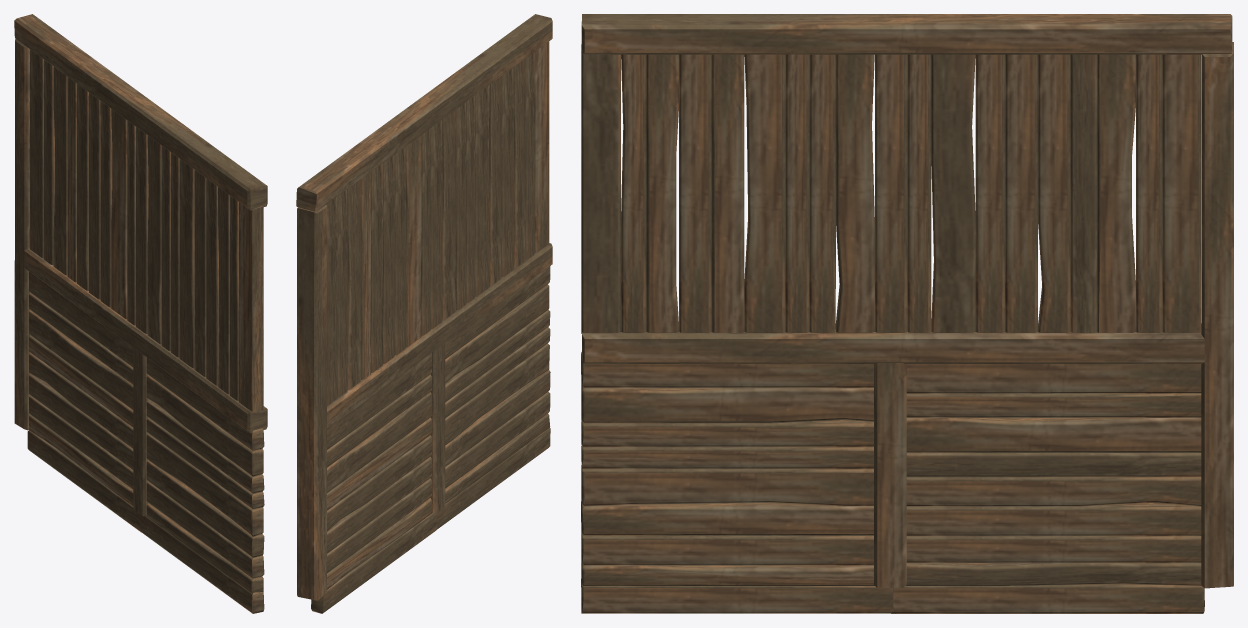
File: SM_wall_wood_02.fbx
3 views of the same model, side by side, from view 1: azimuth 30°, elevation 25°; view 2: azimuth 150°, elevation 25°; view 3: azimuth 270°, elevation 25° (orthographic). The views are drawn at different scales.
Visible parts, largest first — view 1: SM_wall_wood_02_LOD0; view 2: SM_wall_wood_02_LOD0; view 3: SM_wall_wood_02_LOD0.
Boxes of the visible parts, x1,y1,x2,y2 form: SM_wall_wood_02_LOD0: (14, 14, 267, 613); SM_wall_wood_02_LOD0: (296, 14, 552, 613); SM_wall_wood_02_LOD0: (581, 14, 1233, 613).
Size of the model in its own units: 20.1 by 400 by 400.
1 material, 1 textured.
